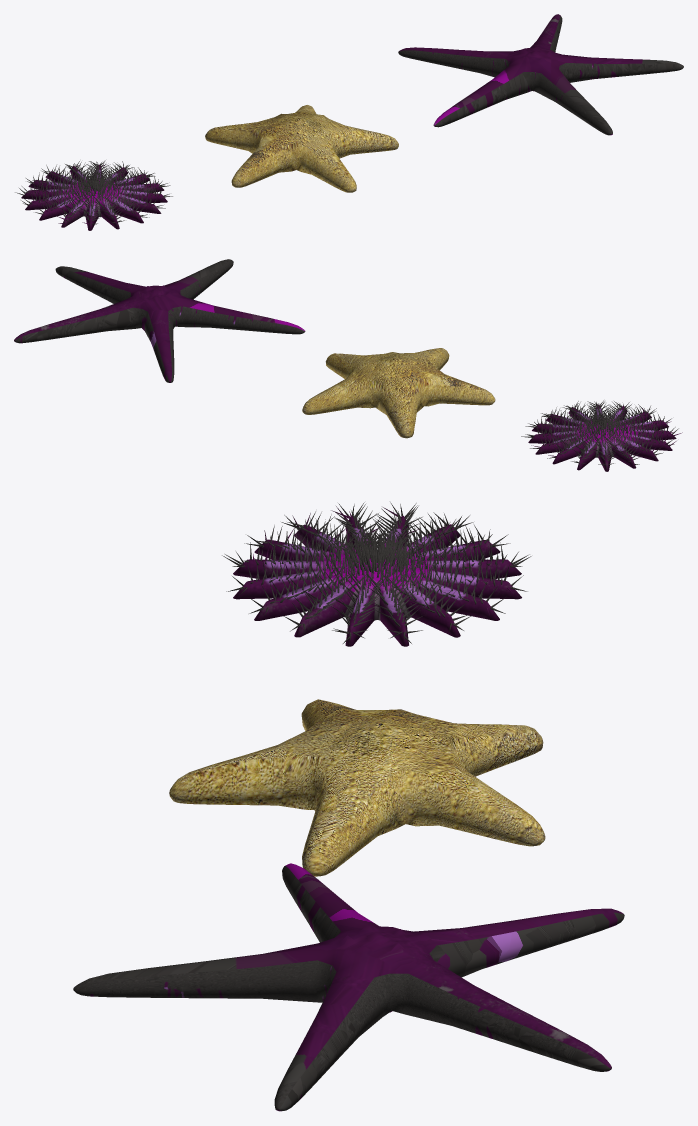
File: fishCollectionStarfish_edit_for_FBX.fbx
3 views of the same model, one above another, from view 1: azimuth 30°, elevation 25°; view 2: azimuth 150°, elevation 25°; view 3: azimuth 270°, elevation 25° (orthographic). The views are drawn at different scales.
Visible parts, largest first — view 1: fishCollection_Starfish03, fishCollection_Starfish02, fishCollection_Starfish01; view 2: fishCollection_Starfish03, fishCollection_Starfish02, fishCollection_Starfish01; view 3: fishCollection_Starfish03, fishCollection_Starfish02, fishCollection_Starfish01.
Part boxes in pixels (box(x1,y1,x2,y2)): fishCollection_Starfish03: box(398, 14, 683, 135); fishCollection_Starfish02: box(205, 105, 398, 192); fishCollection_Starfish01: box(15, 160, 172, 230); fishCollection_Starfish03: box(14, 259, 305, 382); fishCollection_Starfish02: box(302, 348, 495, 438); fishCollection_Starfish01: box(521, 400, 682, 471); fishCollection_Starfish03: box(73, 863, 624, 1111); fishCollection_Starfish02: box(169, 699, 545, 876); fishCollection_Starfish01: box(222, 502, 531, 646).
Bounding box in the file's own units: 5793 × 426 × 2189.
